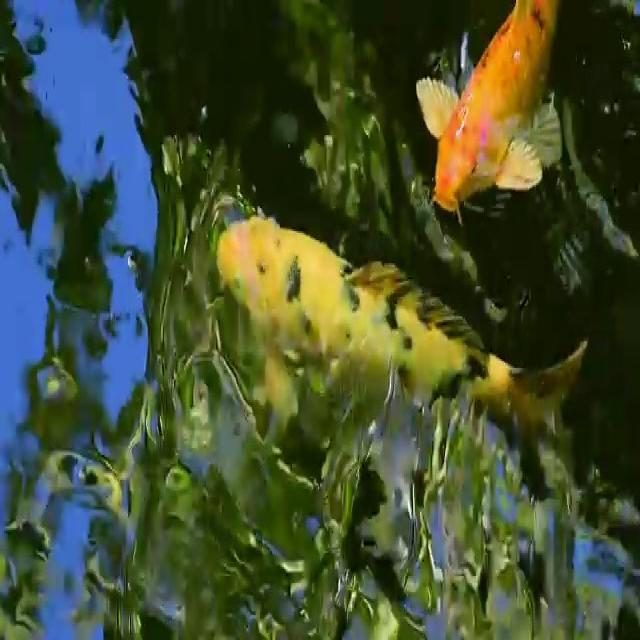fish: (195, 198, 593, 474), (384, 0, 597, 237)
